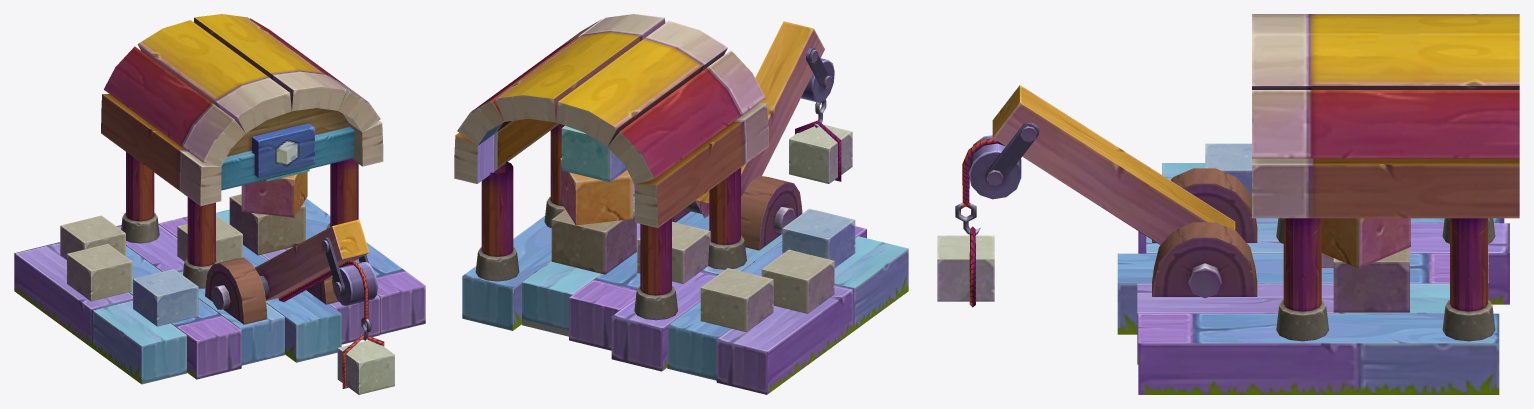
Rendered from scenes_construction_quarry01a.FBX.
3 views of the same model, side by side, from view 1: azimuth 30°, elevation 25°; view 2: azimuth 150°, elevation 25°; view 3: azimuth 270°, elevation 25° (orthographic). The views are drawn at different scales.
Visible parts, largest first — view 1: scenes_construction_quarry01a; view 2: scenes_construction_quarry01a; view 3: scenes_construction_quarry01a.
Boxes of the visible parts, x1,y1,x2,y2 form: scenes_construction_quarry01a: (14, 14, 425, 394); scenes_construction_quarry01a: (454, 14, 908, 394); scenes_construction_quarry01a: (937, 14, 1519, 394).
Bounding box in the file's own units: 1165 × 909 × 1587.
